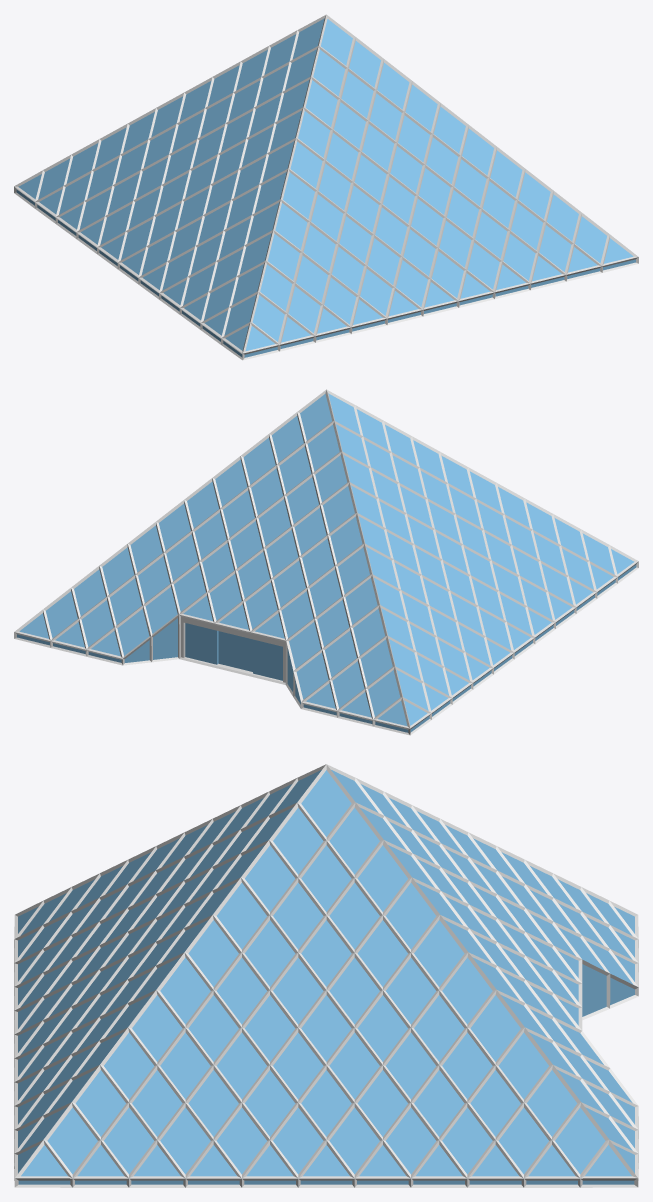
Rendered from louvre.fbx.
The picture shows the model from 3 angles, top to bottom: view 1: azimuth 30°, elevation 25°; view 2: azimuth 150°, elevation 25°; view 3: azimuth 270°, elevation 25°; orthographic projection. The views are drawn at different scales.
Visible parts, largest first — view 1: Joined; view 2: Joined; view 3: Joined.
Boxes of the visible parts, <box> form: Joined: <box>14,14,638,360</box>; Joined: <box>14,389,638,735</box>; Joined: <box>14,764,638,1187</box>.
Size of the model in its own units: 403 by 208 by 403.
